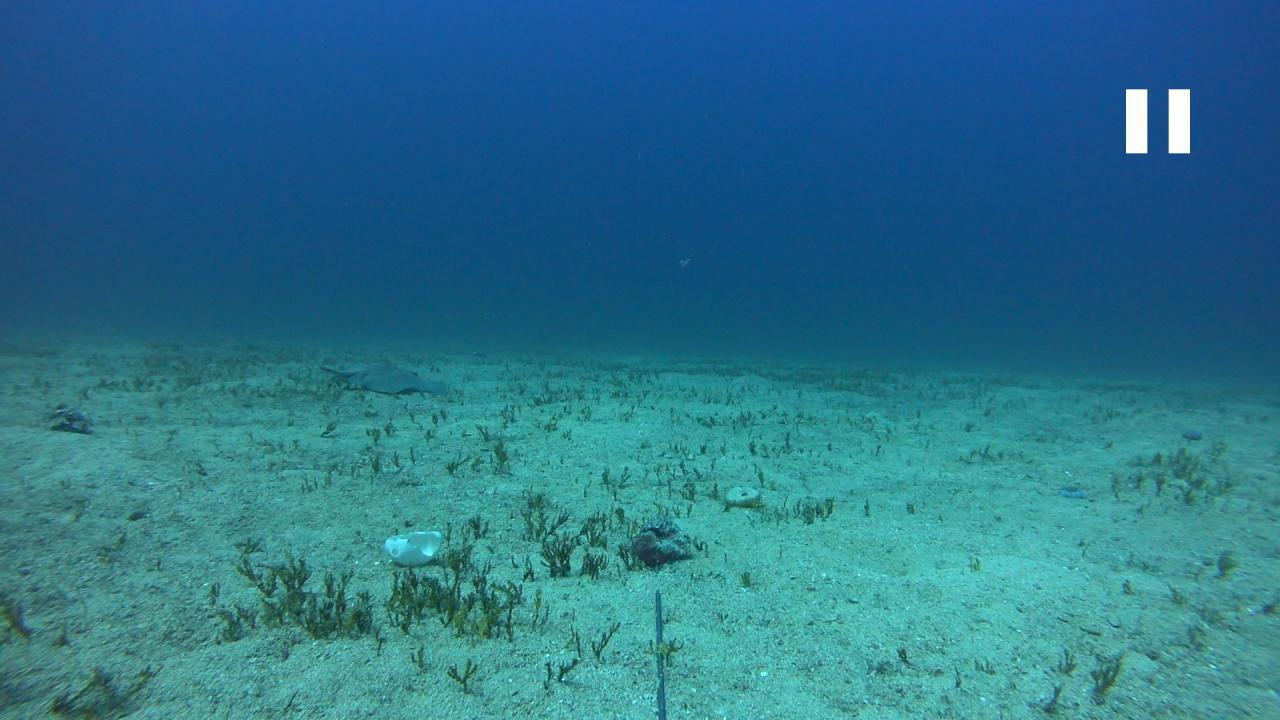dasyatis: (314, 360, 454, 394)
